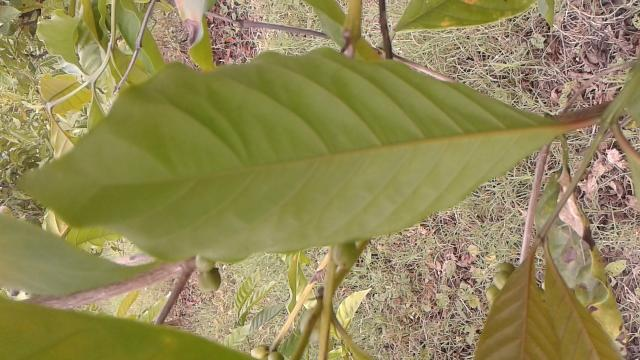healthy: (22, 58, 550, 258)
